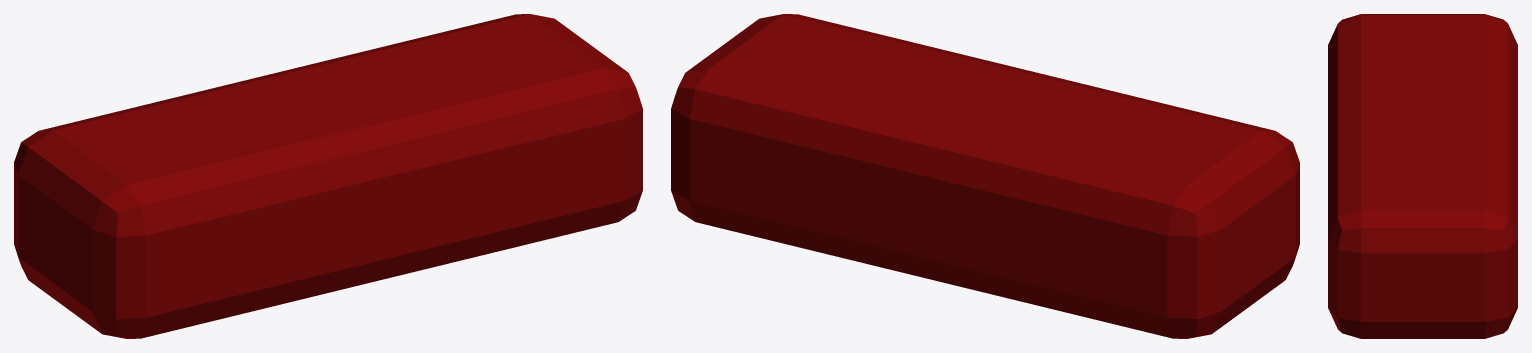
File: CashRegister_button_small.fbx
The picture shows the model from 3 angles, left to right: view 1: azimuth 30°, elevation 25°; view 2: azimuth 150°, elevation 25°; view 3: azimuth 270°, elevation 25°; orthographic projection. The views are drawn at different scales.
Visible parts, largest first — view 1: CashRegister_button_small; view 2: CashRegister_button_small; view 3: CashRegister_button_small.
Part boxes in pixels (x1=…): CashRegister_button_small: x1=14, y1=14, x2=642, y2=338; CashRegister_button_small: x1=671, y1=14, x2=1299, y2=338; CashRegister_button_small: x1=1328, y1=14, x2=1517, y2=338.
Size of the model in its own units: 27.04 by 7.28 by 9.76.
